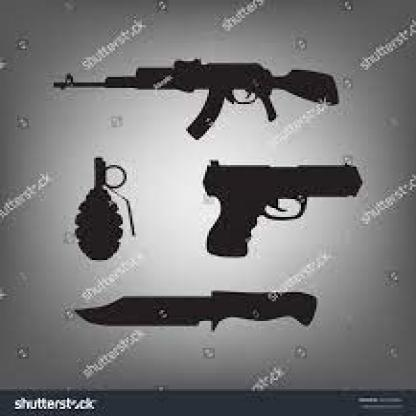Grenade: (73, 154, 139, 263)
Gun: (52, 58, 341, 144)
Knife: (73, 290, 320, 334)
Pistol: (202, 156, 364, 260)
